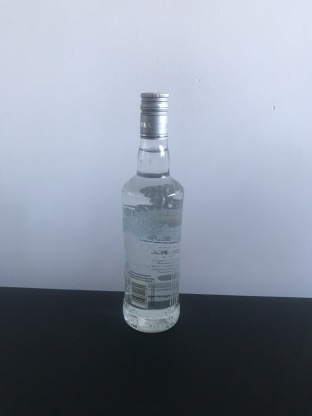nakretka: (138, 90, 169, 141)
